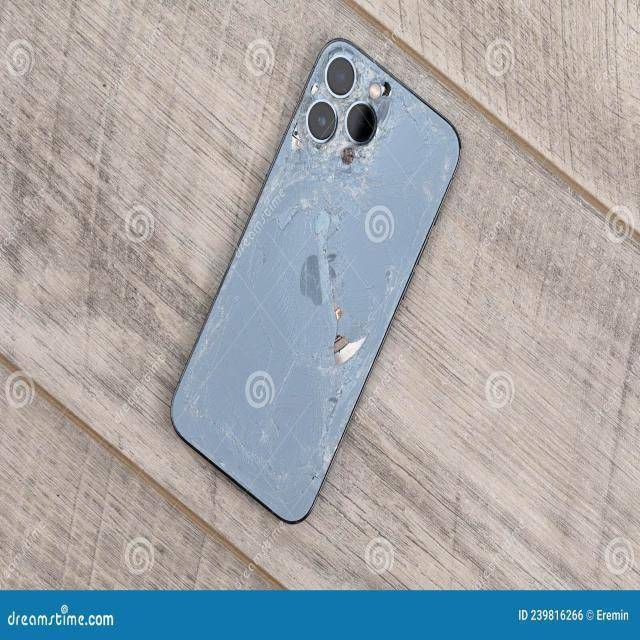Crack: (178, 222, 385, 561), (258, 29, 428, 202)
